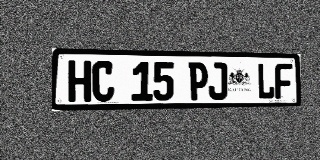1: (132, 61, 153, 101)
5: (153, 62, 174, 101)
C: (92, 61, 114, 102)
F: (275, 63, 292, 99)
H: (68, 60, 91, 102)
J: (208, 62, 227, 100)
L: (257, 63, 275, 99)
P: (188, 62, 208, 100)
